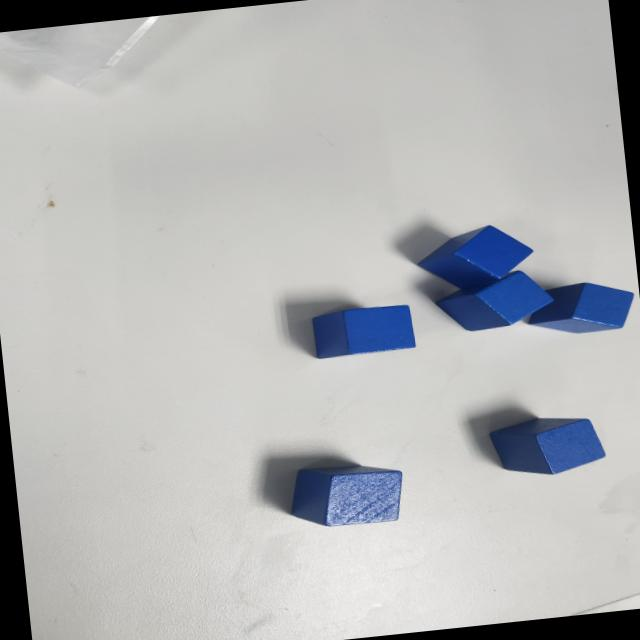blue: (414, 221, 538, 294), (286, 457, 406, 532), (487, 410, 609, 481), (432, 266, 558, 334), (520, 277, 637, 340), (312, 302, 417, 360)
